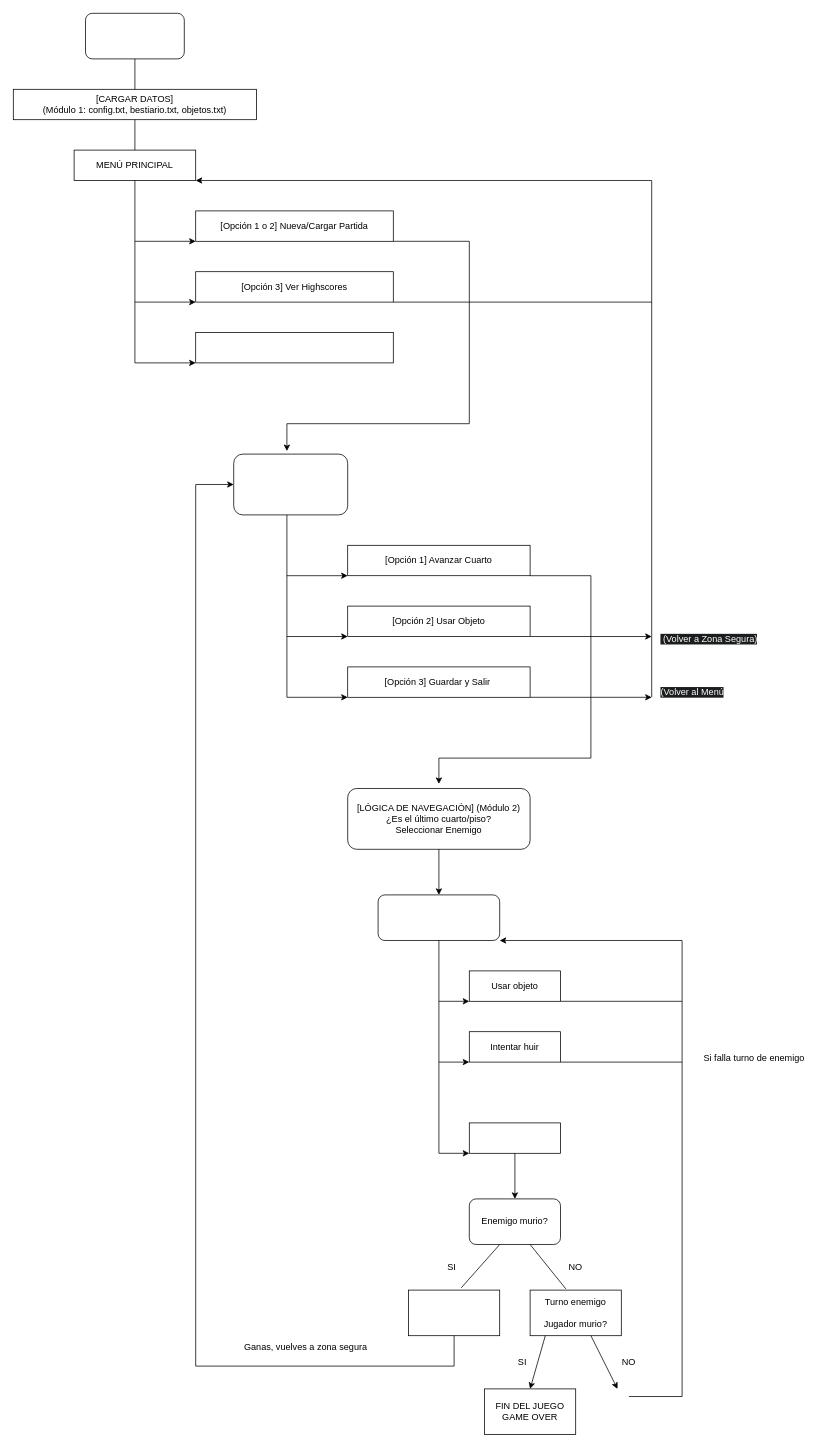
This 832x1448 diagram has some shape labels left out. The shapes that lost their labels are listed below. From the top down, each one's centre as x and y in pixels, then its label:
At point (134, 36): "Inicio de programa".
At point (294, 347): "[Opción 0] Salir ──► [FIN DEL JUEGO]".
At point (290, 484): "ZONA SEGURA (Fuera de combate)".
At point (438, 917): "COMBATE".
At point (514, 1137): "Atacar".
At point (454, 1312): "Dar recompensa Subir de nivel?".
